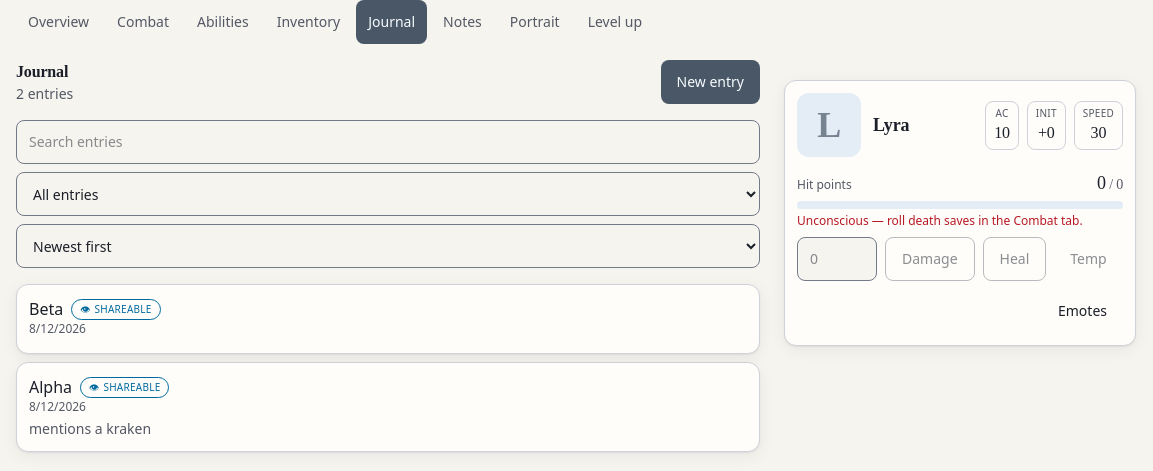
Test: journal entries › searches across title, body and tags
Expected: the text "Alpha" is shown, [29,375,72,399]
In the field named "search journal": (388, 142) [16,120,760,164], type "kraken"
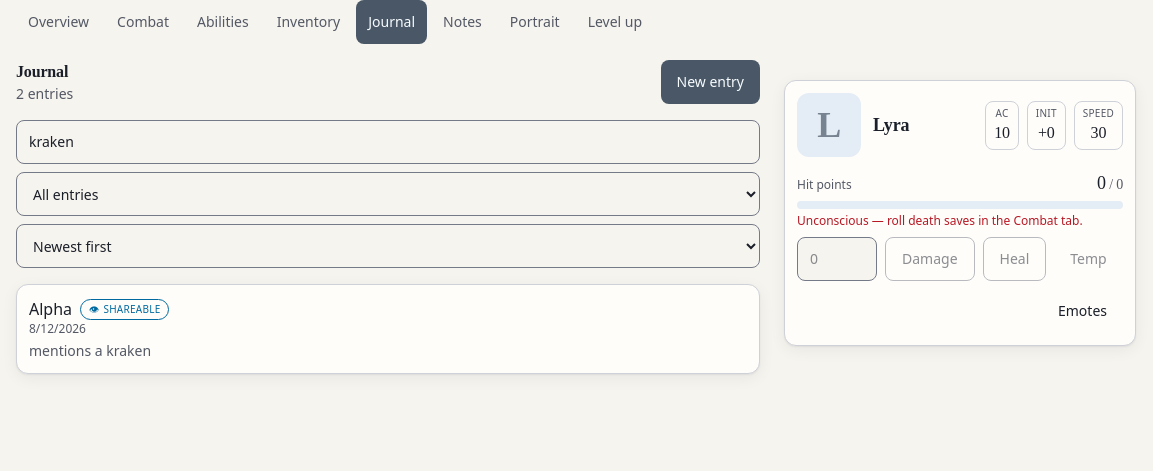
Expected: the text "Alpha" is shown, [29,297,72,321]
Now the heading "Beta" is gone
